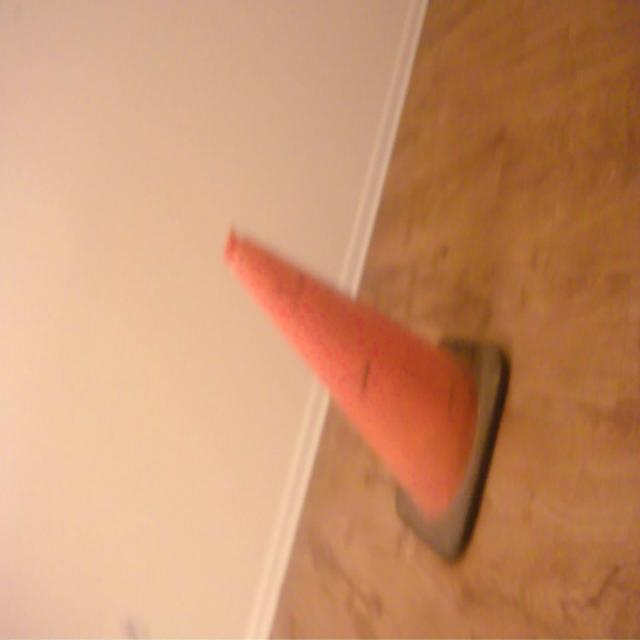traffic cone: (221, 220, 515, 574)
